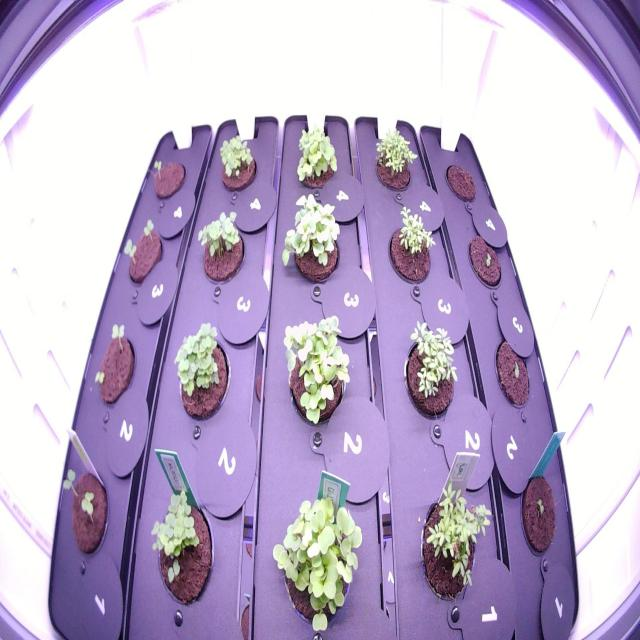germination: (269, 482, 368, 640), (413, 475, 494, 623), (142, 476, 219, 618), (278, 302, 357, 438), (54, 450, 120, 578), (166, 314, 235, 436), (274, 186, 347, 293), (399, 318, 465, 430), (192, 198, 252, 292), (384, 203, 442, 295), (90, 312, 140, 416), (370, 118, 420, 203), (286, 121, 342, 194), (119, 209, 168, 292), (490, 330, 534, 422), (518, 467, 560, 563), (209, 127, 263, 201), (463, 227, 507, 302), (145, 142, 189, 212)
pod: (442, 156, 479, 212)
